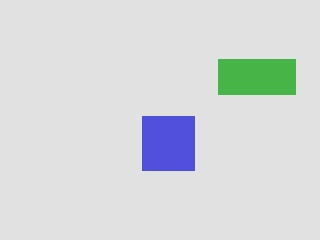tall_box: (142, 116, 194, 170)
wide_box: (218, 59, 295, 94)
